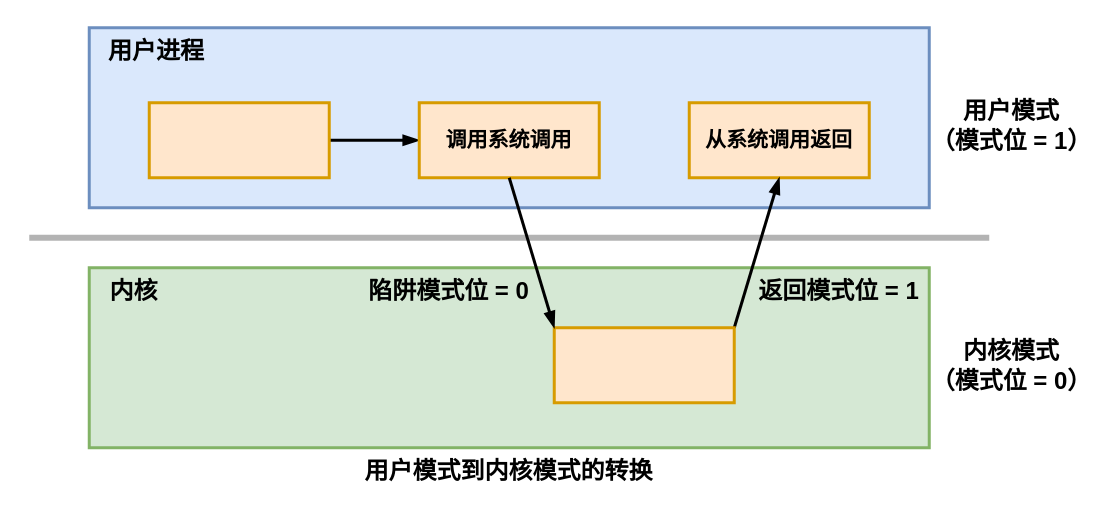
Image size: 1119x518. Some labels were removed from this diagram. The centre of each missing label's shape, as x and y in pixels:
"执行系统调用" goes at point (643, 365).
"用户进程执行" goes at point (238, 139).
